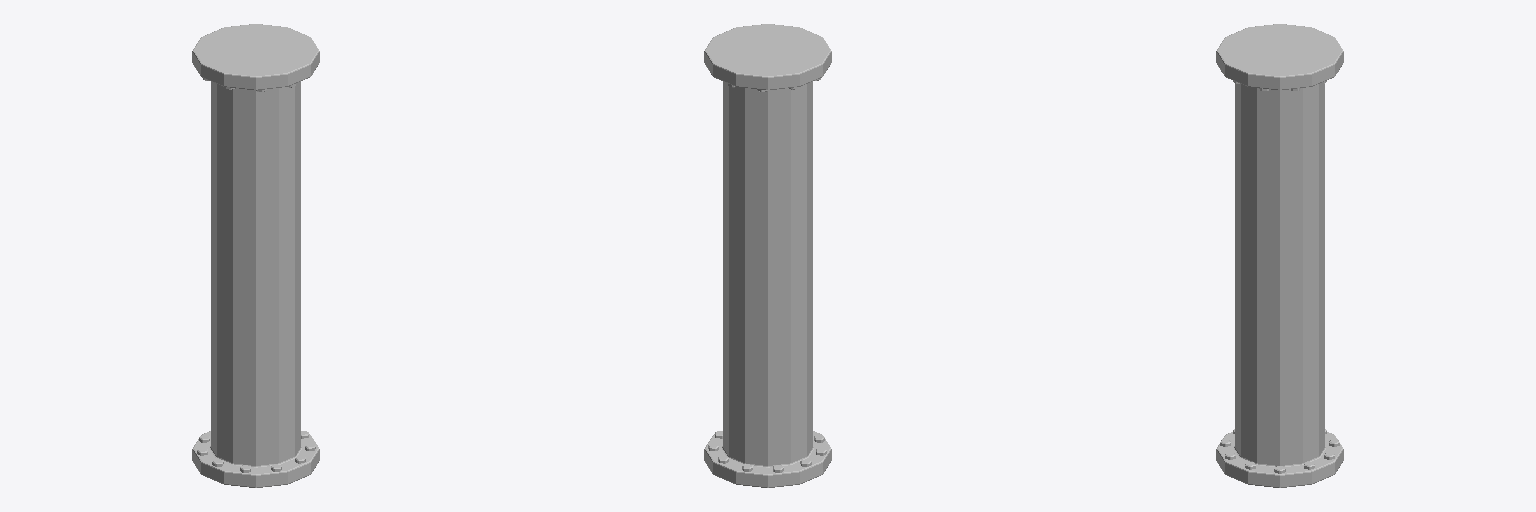
Rendered from pipe1.obj.
3 views of the same model, side by side, from view 1: azimuth 30°, elevation 25°; view 2: azimuth 150°, elevation 25°; view 3: azimuth 270°, elevation 25° (orthographic).
Parts seen in each view (by area): view 1: Object003.001; view 2: Object003.001; view 3: Object003.001.
Boxes of the visible parts, <box> form: Object003.001: <box>192,24,319,487</box>; Object003.001: <box>704,24,831,487</box>; Object003.001: <box>1216,24,1343,487</box>.
Bounding box in the file's own units: 4.44 × 15.85 × 4.44.